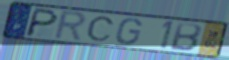1: (160, 20, 174, 51)
B: (168, 21, 203, 53)
C: (86, 15, 117, 43)
G: (114, 17, 143, 46)
P: (24, 7, 60, 38)
R: (52, 9, 88, 43)
